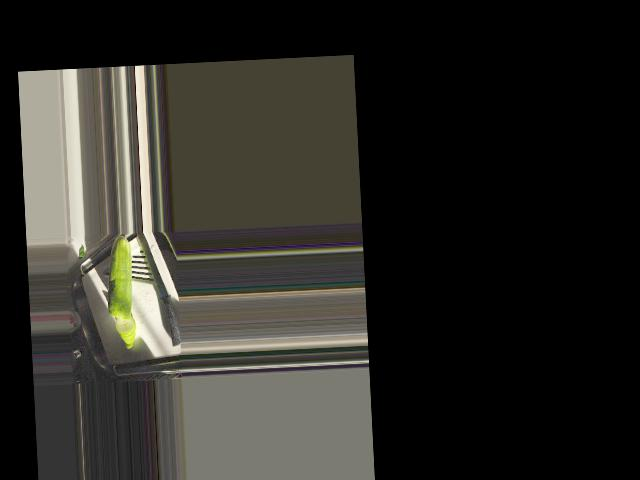cucumber: (105, 235, 134, 321)
